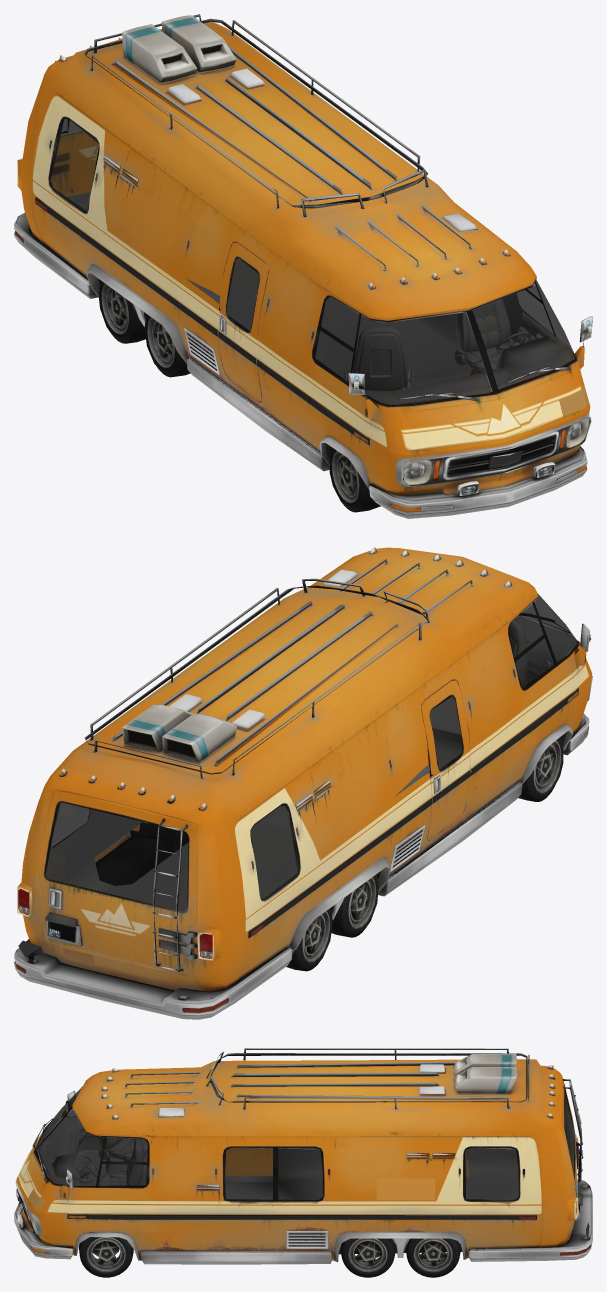
Rendered from motorhome.glb.
3 views of the same model, one above another, from view 1: azimuth 30°, elevation 25°; view 2: azimuth 150°, elevation 25°; view 3: azimuth 270°, elevation 25° (orthographic). The views are drawn at different scales.
Visible parts, largest first — view 1: Plane.009_10, Plane.005_14, Plane.006_3, Cube.002_5, Cube.003_2, Plane.004_13, Plane.001_11, Plane.003_12; view 2: Plane.009_10, Plane.005_14, Plane.006_3, Plane.003_12, Plane.001_11, Plane.004_13, Cube.002_5; view 3: Plane.009_10, Plane.005_14, Plane.006_3, Plane.004_13, Plane.003_12, Plane.001_11, Cube.003_2, Cube.002_5.
Part boxes in pixels (<box>): Plane.009_10: <box>14,14,592,518</box>; Plane.005_14: <box>50,119,575,404</box>; Plane.006_3: <box>51,92,574,404</box>; Cube.002_5: <box>344,326,414,391</box>; Cube.003_2: <box>455,298,522,373</box>; Plane.004_13: <box>98,281,146,343</box>; Plane.001_11: <box>329,447,380,512</box>; Plane.003_12: <box>144,314,190,377</box>; Plane.009_10: <box>14,547,592,1019</box>; Plane.005_14: <box>46,594,577,911</box>; Plane.006_3: <box>46,615,577,911</box>; Plane.003_12: <box>330,874,378,937</box>; Plane.001_11: <box>518,737,563,801</box>; Plane.004_13: <box>286,908,332,971</box>; Cube.002_5: <box>508,619,527,686</box>; Plane.009_10: <box>14,1048,592,1264</box>; Plane.005_14: <box>36,1086,575,1199</box>; Plane.006_3: <box>36,1089,574,1199</box>; Plane.004_13: <box>405,1238,460,1277</box>; Plane.003_12: <box>341,1238,395,1277</box>; Plane.001_11: <box>79,1237,133,1277</box>; Cube.003_2: <box>98,1139,144,1185</box>; Cube.002_5: <box>97,1136,147,1161</box>.
Bounding box in the file's own units: 3.18 × 3.18 × 9.29.
Materials: 4 (3 with a texture image).
